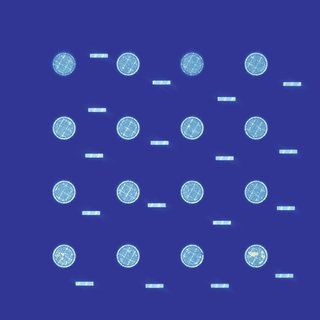overheated: (245, 250, 268, 259), (55, 249, 64, 266)
